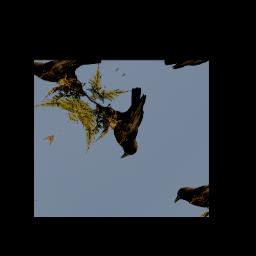Crow: (85, 83, 176, 165)
